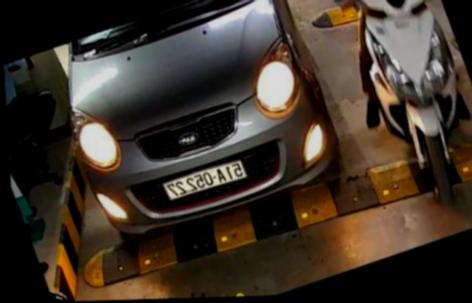License_Plate: (160, 156, 256, 211)
